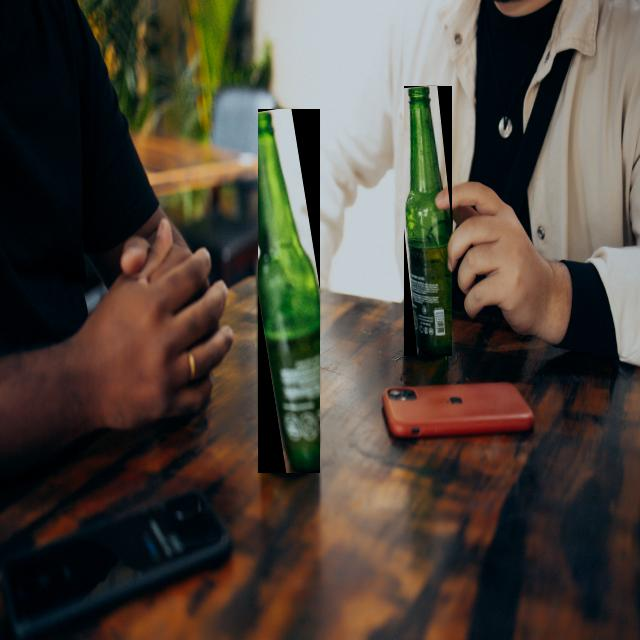Bottle: (257, 110, 318, 473), (403, 87, 451, 355)
